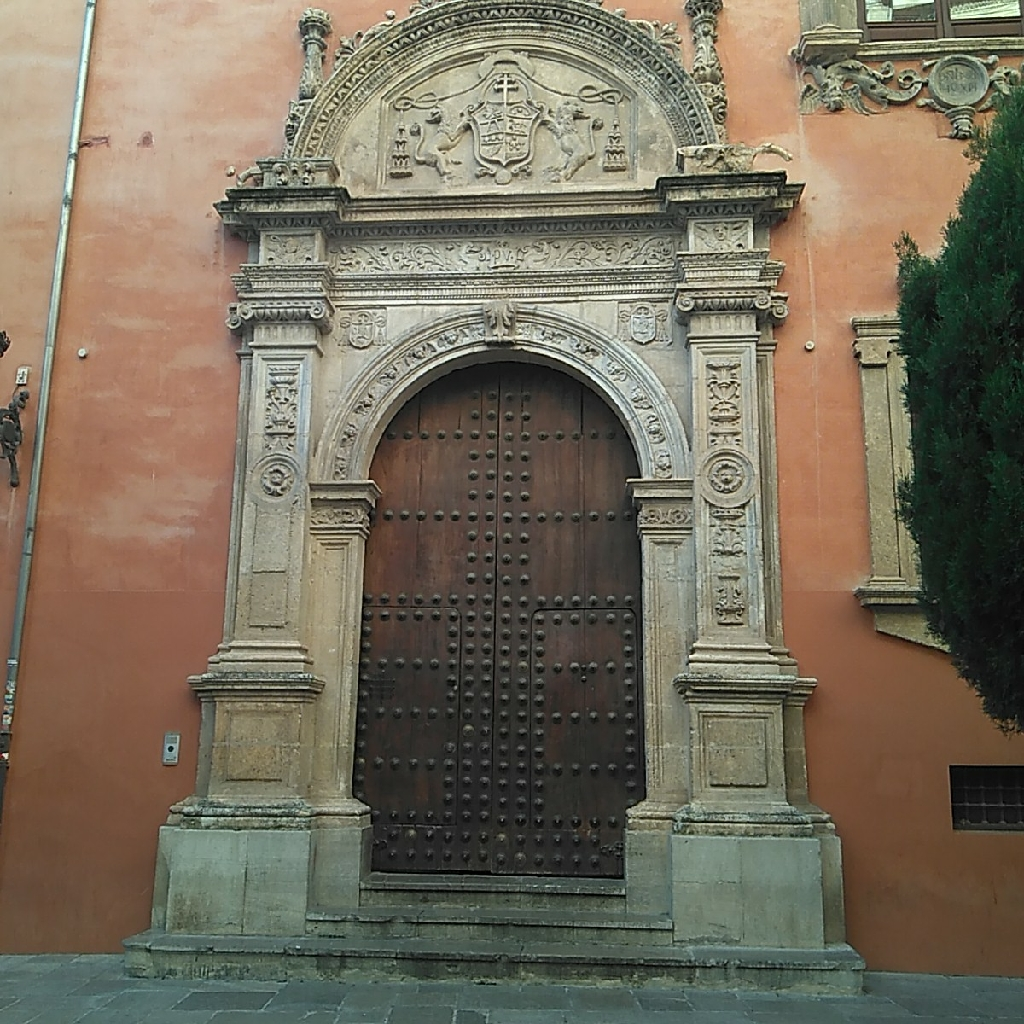arco-medio-punto: (344, 324, 665, 540)
